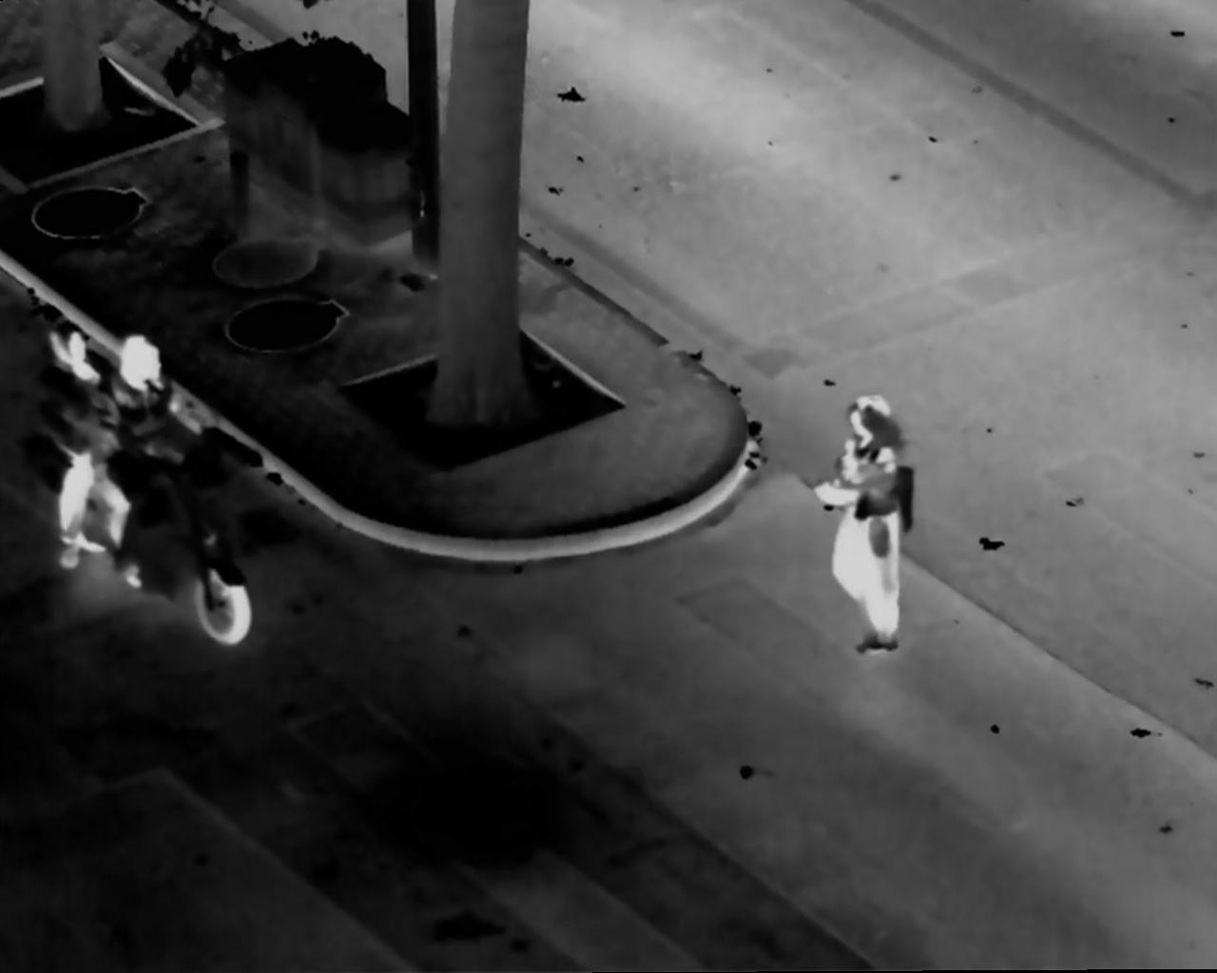person: (812, 396, 935, 664), (32, 319, 120, 572), (104, 335, 191, 587)
